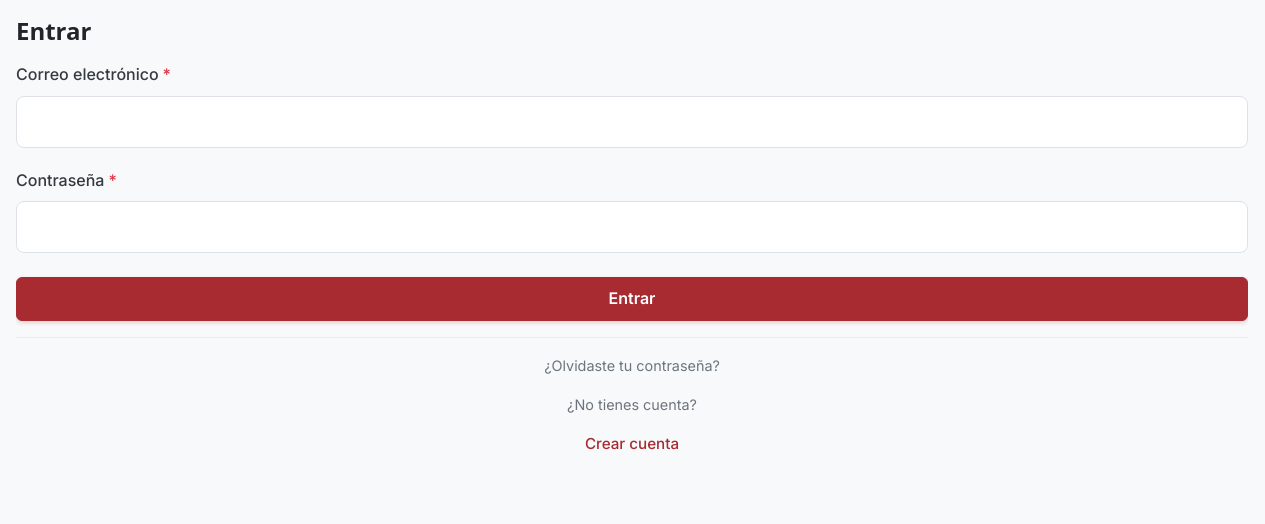
Test: LoginForm Component › validates email and password fields
The width and height of the screenshot is (1265, 524).
Submit form without filling fields
Click the button "Entrar": [632, 299] box [16,277,1248,321]
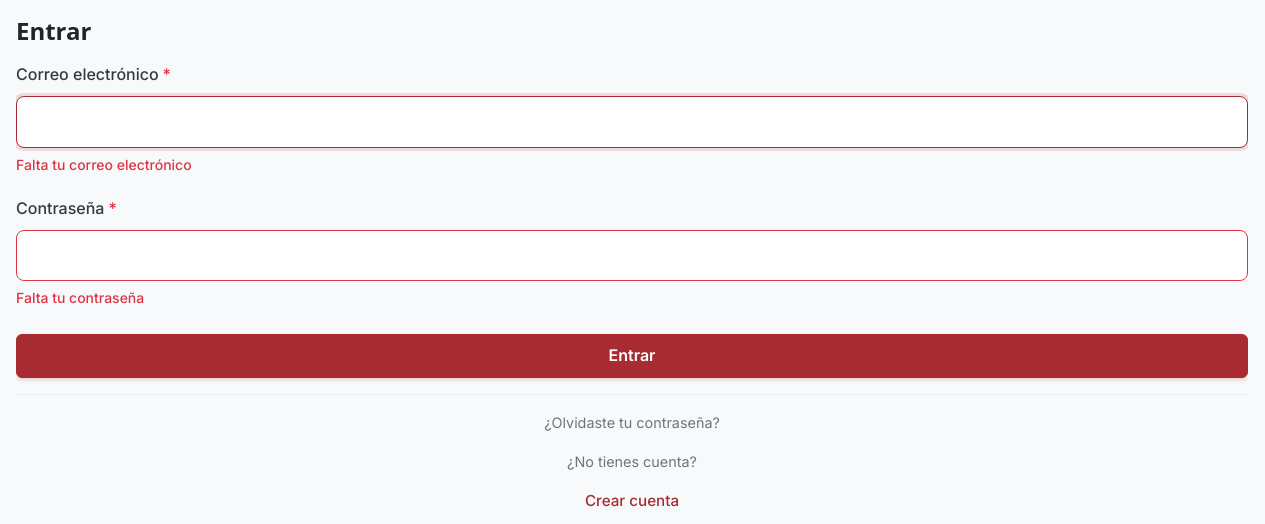
Result: the text "Falta tu correo electrónico" is shown at [16,156,192,173]
Result: the text "Falta tu contraseña" is shown at [16,289,144,306]
Fill email with invalid format
In the field labelled "Correo electrónico*": [632, 122] box [16,96,1248,148], type "invalid-email"
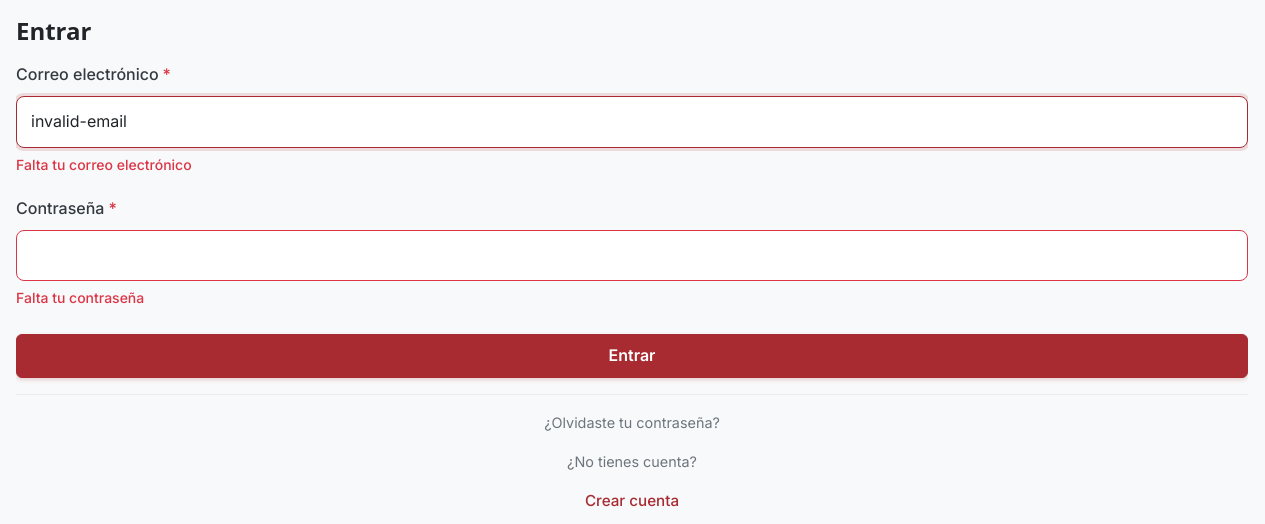
Click the button "Entrar": [632, 356] box [16,334,1248,378]
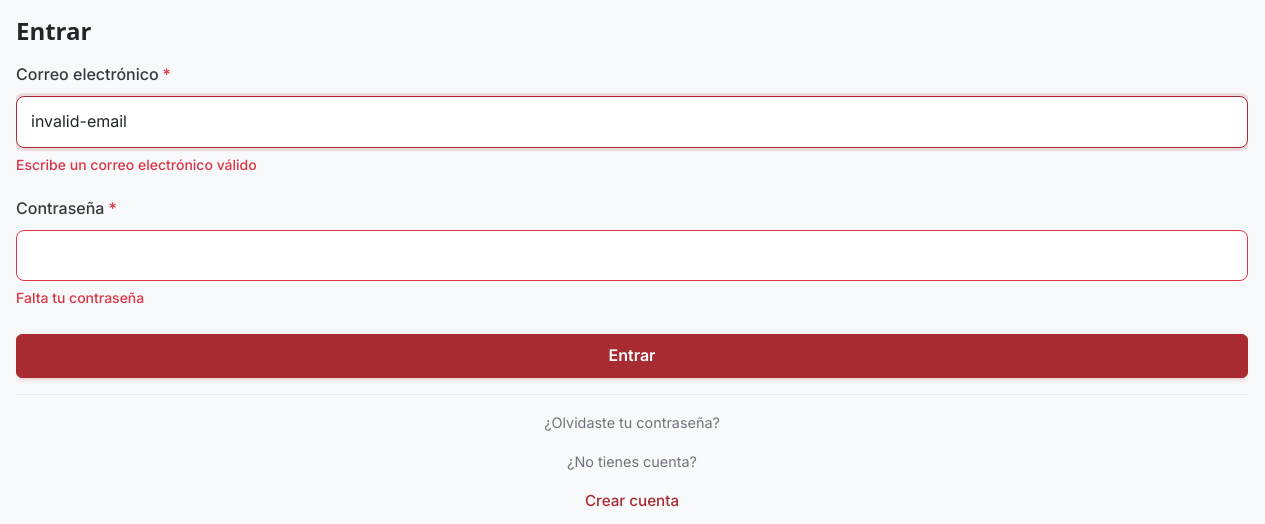
Result: the text "Escribe un correo electrónico válido" is shown at [16,156,257,173]
Fill fields with valid data
Replace the text in the field labelled "Correo electrónico*" with "test@example.com": [632, 122] box [16,96,1248,148]
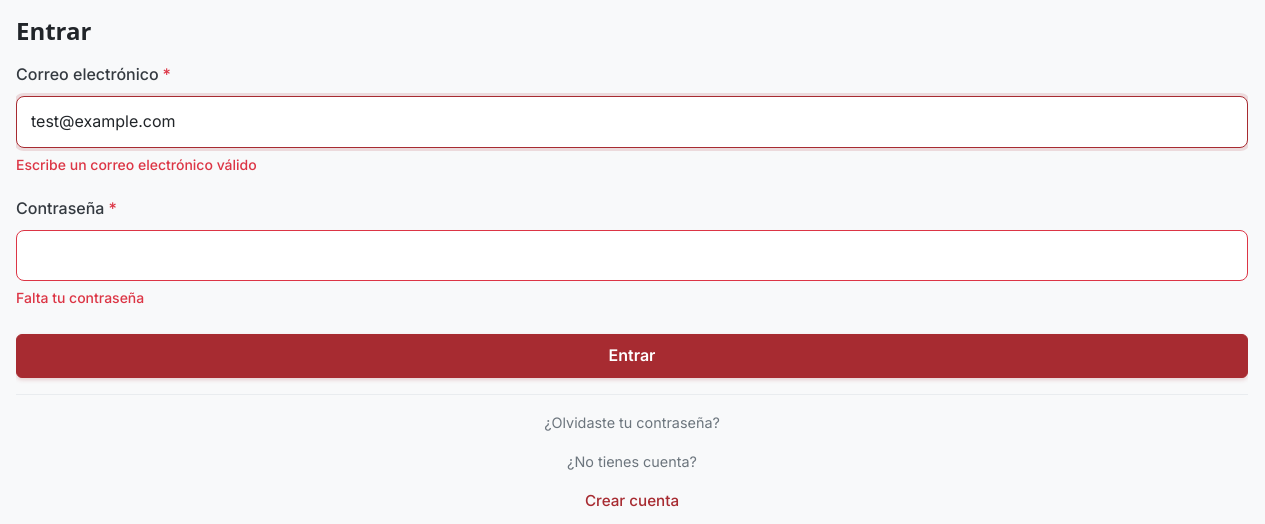
In the password field labelled "Contraseña*": [632, 255] box [16,230,1248,281], type "password123"
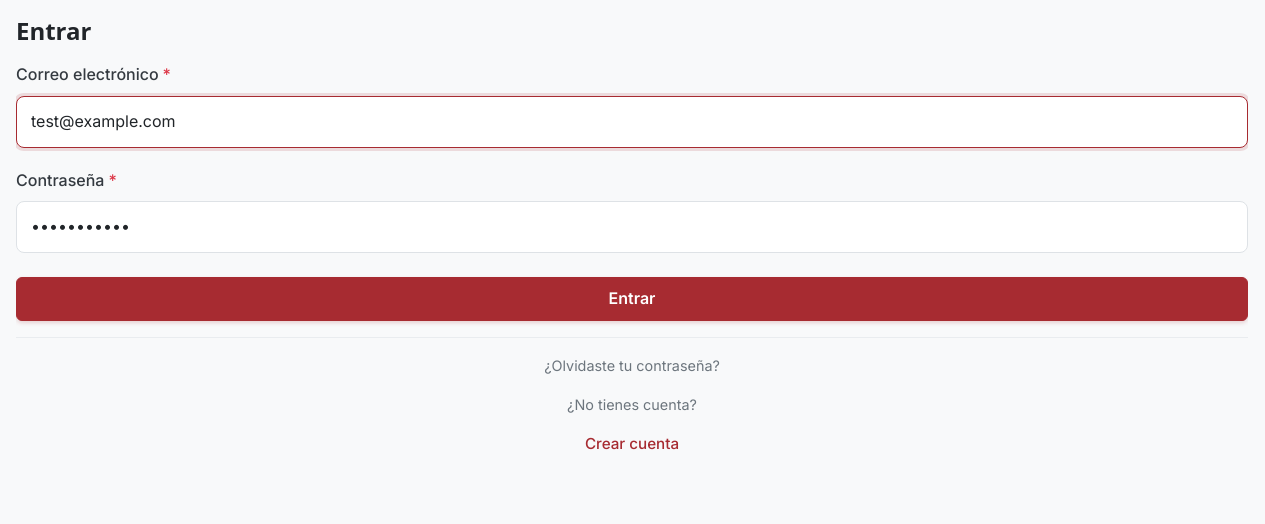
Expected: the text "Falta tu correo electrónico" is not shown
Result: the text "Falta tu contraseña" is gone
Result: the text "Escribe un correo electrónico válido" is gone
